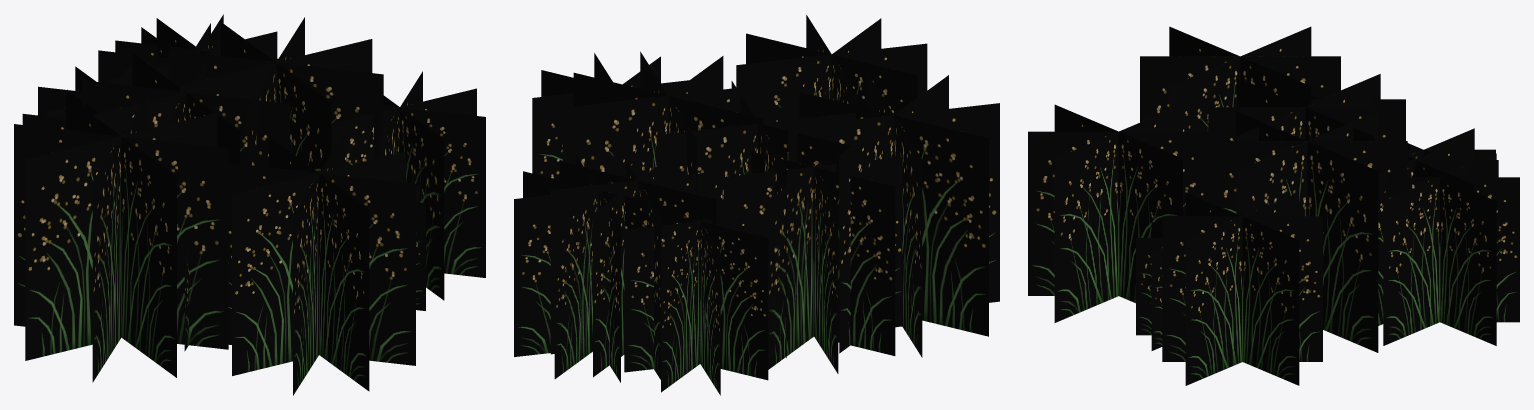
Rendered from SM_Lake_Reeds.fbx.
3 views of the same model, side by side, from view 1: azimuth 30°, elevation 25°; view 2: azimuth 150°, elevation 25°; view 3: azimuth 270°, elevation 25° (orthographic). The views are drawn at different scales.
Visible parts, largest first — view 1: SM_Lake_Reeds; view 2: SM_Lake_Reeds; view 3: SM_Lake_Reeds.
Boxes of the visible parts, left/top/right/bottom form: SM_Lake_Reeds: left=14, top=14, right=485, bottom=395; SM_Lake_Reeds: left=514, top=15, right=999, bottom=395; SM_Lake_Reeds: left=1028, top=26, right=1519, bottom=385.
Bounding box in the file's own units: 139 × 59.05 × 145.
